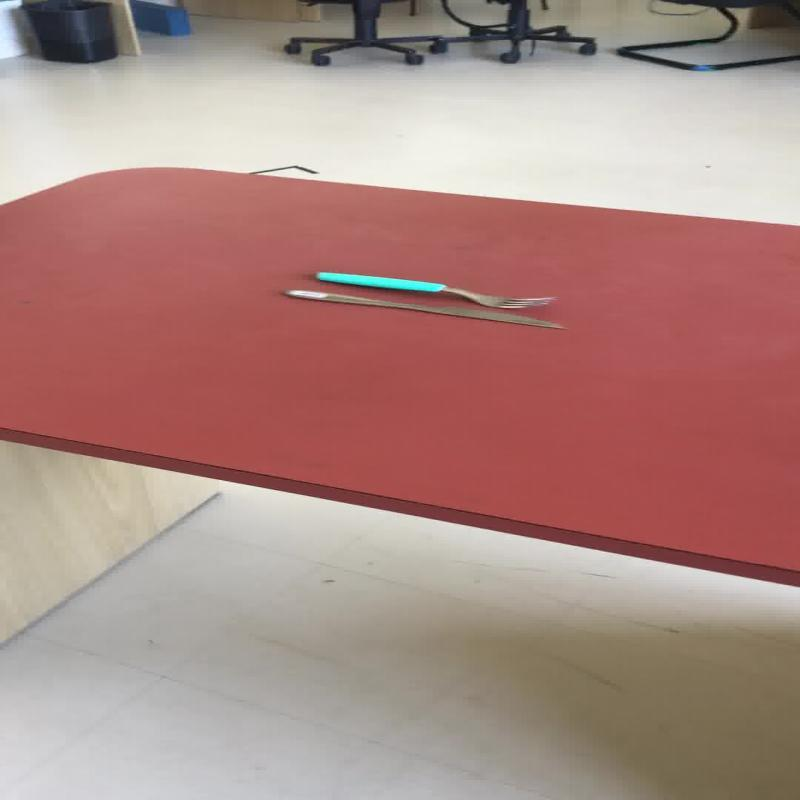fork: (312, 270, 556, 308)
knife: (280, 288, 567, 330)
